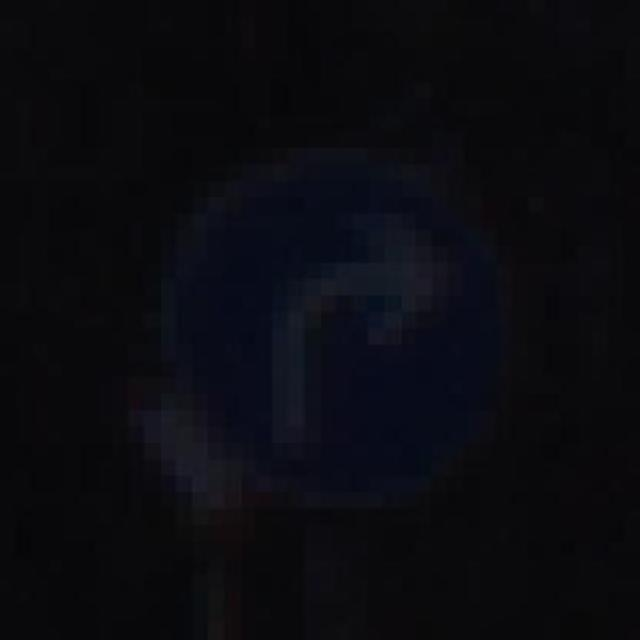Turn right ahead: (84, 98, 581, 508)
